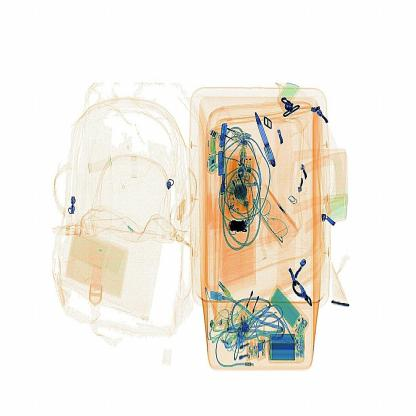scissors: (223, 210, 254, 243)
